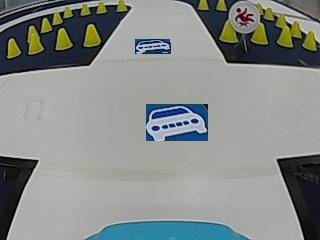cone: (27, 26, 42, 54), (219, 21, 237, 43), (83, 23, 100, 46), (251, 24, 268, 45), (55, 28, 71, 50), (277, 27, 292, 47), (302, 30, 316, 50), (6, 37, 19, 58), (40, 16, 51, 33), (276, 12, 286, 28), (51, 11, 62, 25), (291, 20, 300, 37), (96, 1, 107, 14), (197, 0, 209, 11), (80, 3, 90, 16), (63, 5, 73, 18), (264, 6, 273, 20), (116, 0, 127, 11), (216, 0, 226, 11)
tumble: (231, 3, 258, 30)
